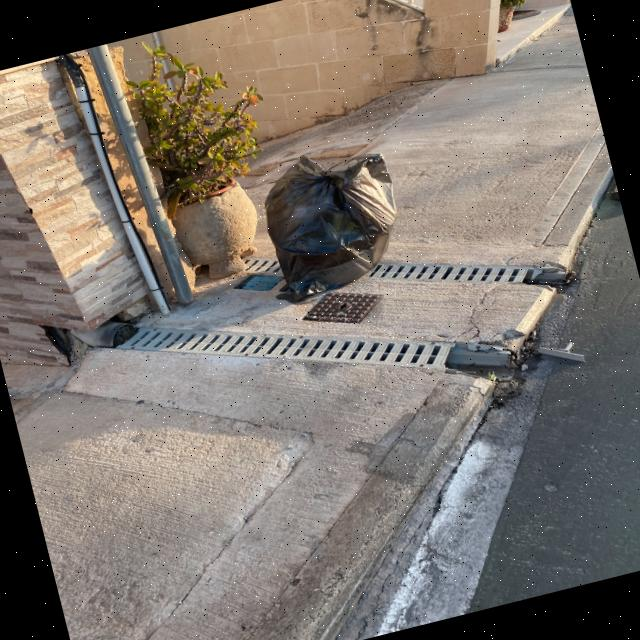Mixed Waste: (249, 134, 423, 308)
